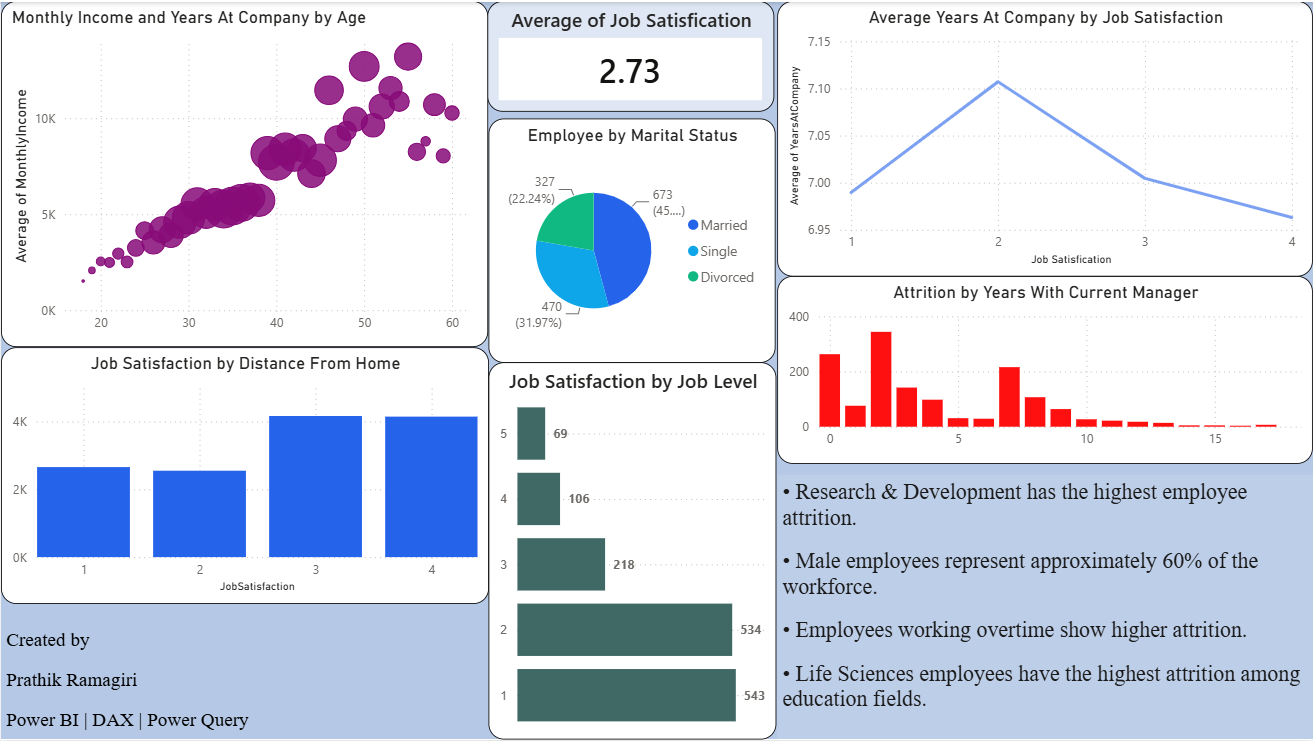

Layout of this report page (visuals, bound fields, positions):
{"tool":"powerbi","page":{"name":"Insights","canvas":[1280,720],"ordinal":1},"visuals":[{"type":"cardVisual","title":"Average of Job Satisfication","fields":{"Data":["Avg(IBM Attrition Dataset.JobSatisfaction)"]},"box":[474.8,0,279.8,108],"z":0},{"type":"scatterChart","title":"Monthly Income and Years At Company by Age","fields":{"Y":["Avg(IBM Attrition Dataset.MonthlyIncome)"],"X":["IBM Attrition Dataset.Age"],"Size":["Sum(IBM Attrition Dataset.YearsAtCompany)"]},"box":[0,0,474.8,337.4],"z":1000},{"type":"columnChart","title":"Job Satisfaction by Distance From Home","fields":{"Y":["Sum(IBM Attrition Dataset.DistanceFromHome)"],"Category":["IBM Attrition Dataset.JobSatisfaction"]},"box":[0,337.4,476.1,250.3],"z":2000},{"type":"lineChart","title":"Average Years At Company by Job Satisfaction","fields":{"Y":["Avg(IBM Attrition Dataset.YearsAtCompany)"],"Category":["IBM Attrition Dataset.JobSatisfaction"]},"box":[757.1,0,522.7,268.7],"z":3000},{"type":"columnChart","title":"Attrition by Years With Current Manager","fields":{"Category":["IBM Attrition Dataset.YearsWithCurrManager"],"Y":["CountNonNull(IBM Attrition Dataset.Attrition)"]},"box":[757.1,268.7,522.7,182.8],"z":4000},{"type":"clusteredBarChart","title":"Job Satisfaction by Job Level","fields":{"Category":["IBM Attrition Dataset.JobLevel"],"Y":["CountNonNull(IBM Attrition Dataset.JobSatisfaction)"]},"box":[476.1,352.1,281,368.1],"z":5000},{"type":"pieChart","title":"Employee by Marital Status","fields":{"Category":["IBM Attrition Dataset.MaritalStatus"],"Y":["CountNonNull(IBM Attrition Dataset.EmployeeCount)"]},"box":[476.1,114.1,279.8,238],"z":6000},{"type":"textbox","box":[757.2,462.1,523.1,258.5],"z":7000},{"type":"textbox","box":[0,607.4,279.8,112.9],"z":8000}]}

Visuals, with their boxes in screenshot pixels (x1, y1, x2, y2), scaled from the page's 1280x720 canvas onto the 1313x741 screenshot:
"Average of Job Satisfication" cardVisual: detection(487, 0, 774, 111)
"Monthly Income and Years At Company by Age" scatterChart: detection(0, 0, 487, 347)
"Job Satisfaction by Distance From Home" columnChart: detection(0, 347, 488, 605)
"Average Years At Company by Job Satisfaction" lineChart: detection(777, 0, 1312, 277)
"Attrition by Years With Current Manager" columnChart: detection(777, 277, 1312, 465)
"Job Satisfaction by Job Level" clusteredBarChart: detection(488, 362, 777, 740)
"Employee by Marital Status" pieChart: detection(488, 117, 775, 362)
textbox: detection(777, 476, 1312, 740)
textbox: detection(0, 625, 287, 740)
